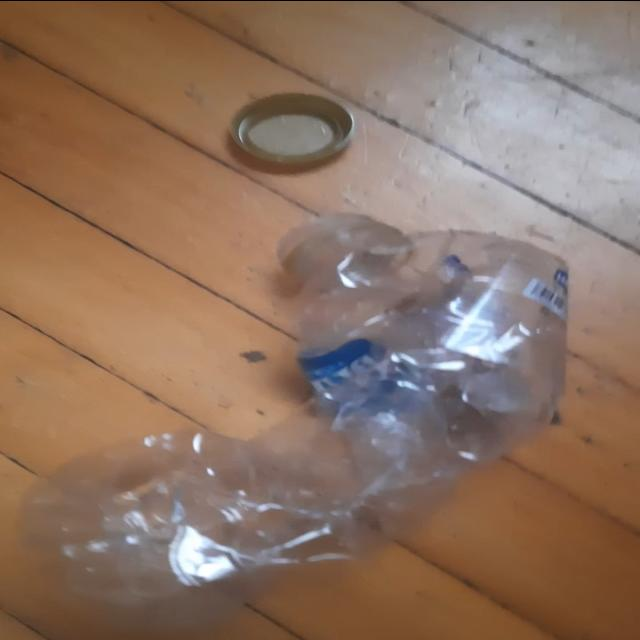Plastic: (19, 217, 569, 605)
